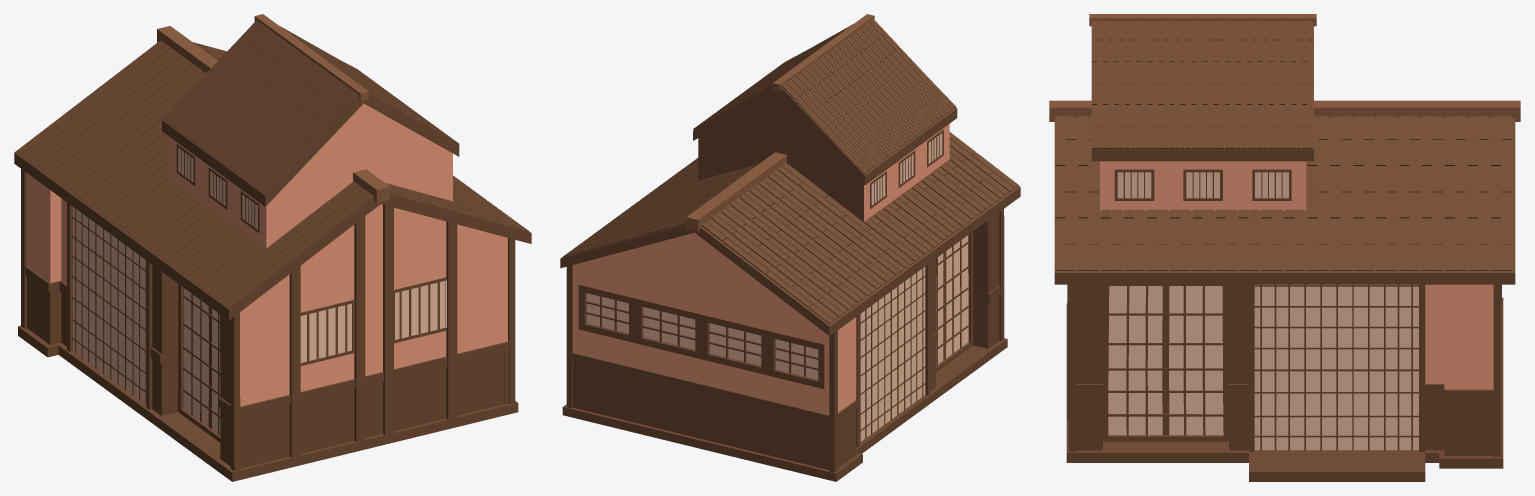
The model's file is House_1.fbx.
The picture shows the model from 3 angles, left to right: view 1: azimuth 30°, elevation 25°; view 2: azimuth 150°, elevation 25°; view 3: azimuth 270°, elevation 25°; orthographic projection. The views are drawn at different scales.
Visible parts, largest first — view 1: House_1; view 2: House_1; view 3: House_1.
Part boxes in pixels (<box>): House_1: <box>14,14,531,481</box>; House_1: <box>560,14,1020,481</box>; House_1: <box>1049,14,1520,481</box>.
Bounding box in the file's own units: 351 × 349 × 401.
